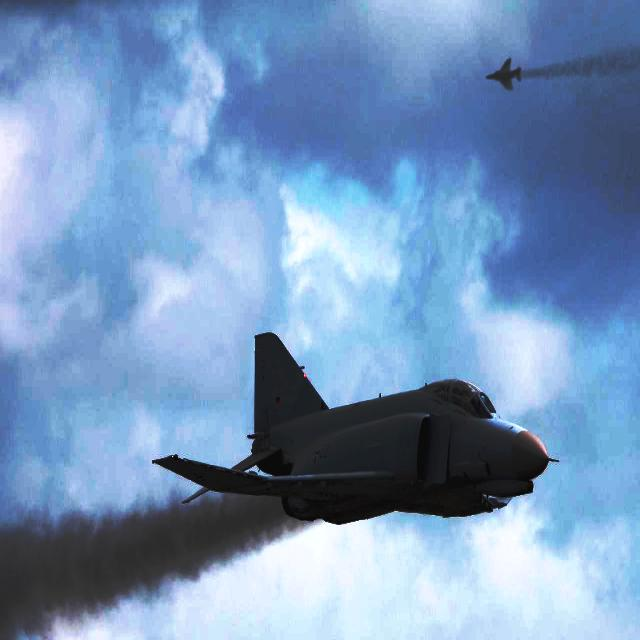Aircraft: (145, 330, 573, 532), (486, 55, 522, 90)
